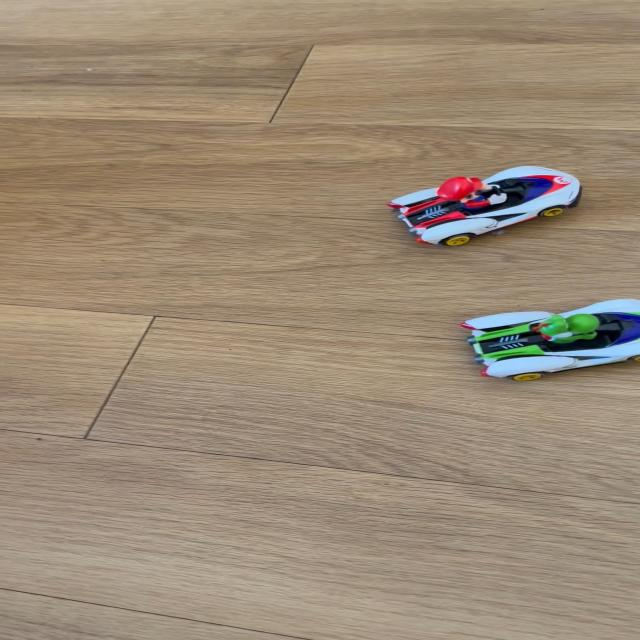mario: (380, 164, 598, 249)
yoshi: (453, 292, 639, 380)
